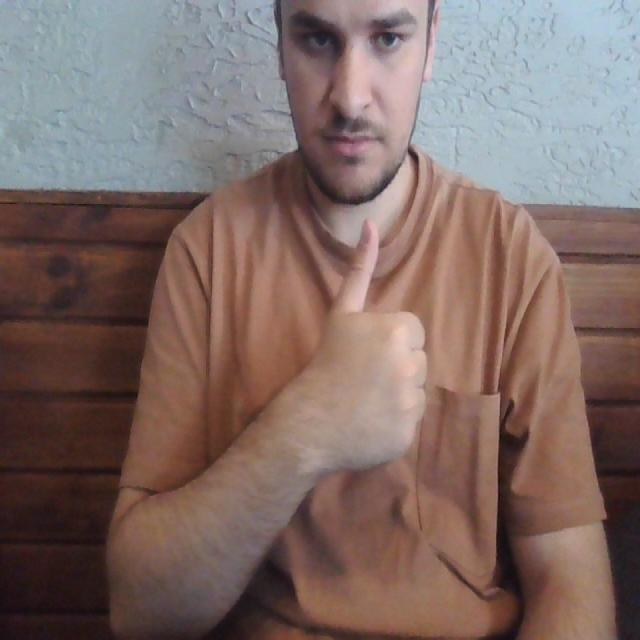Tamam: (298, 210, 432, 481)
